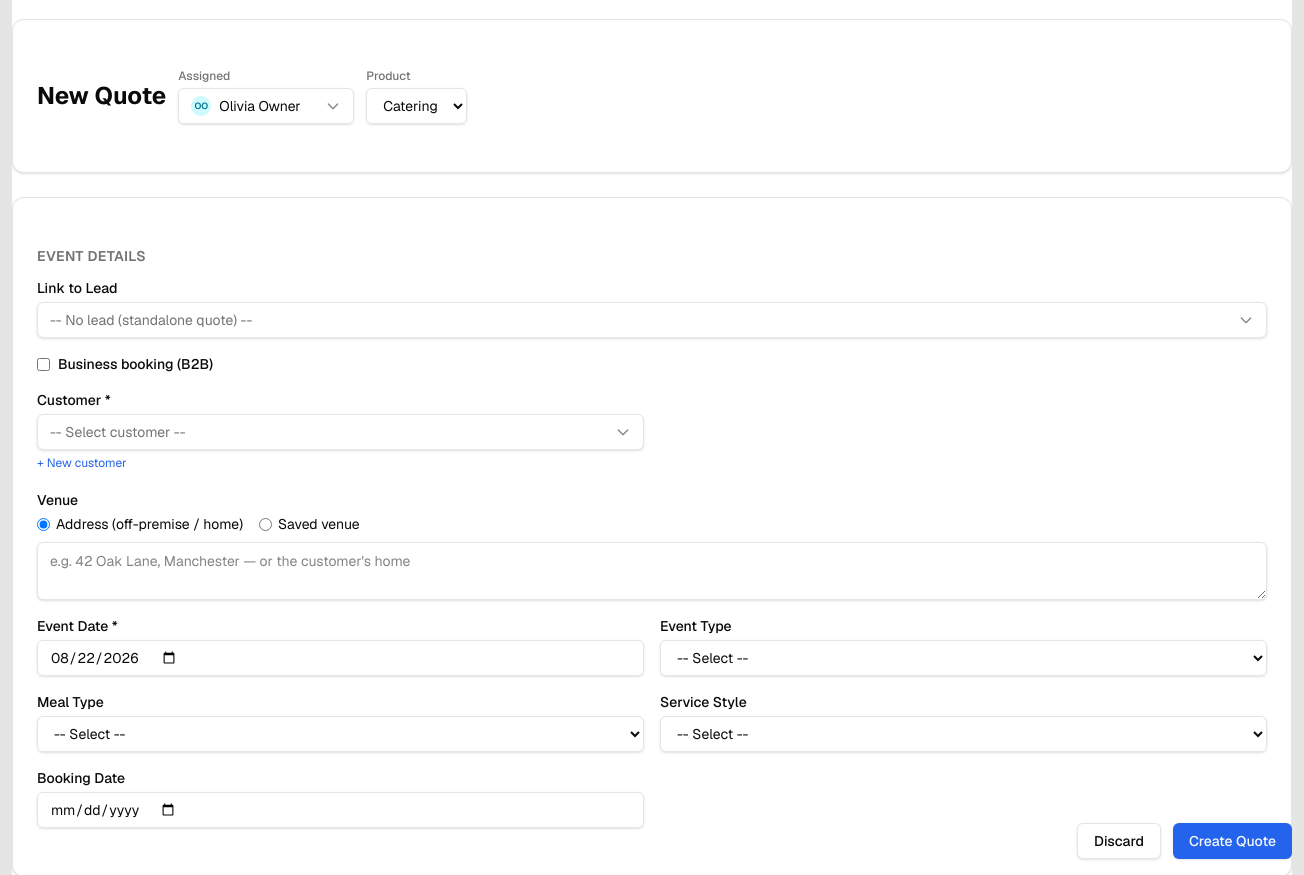
Quote create — linking to a lead › tells two leads with the same name apart by their date
Click the button with aria-label "Link to Lead" at (151, 320), box [37, 302, 1267, 338]
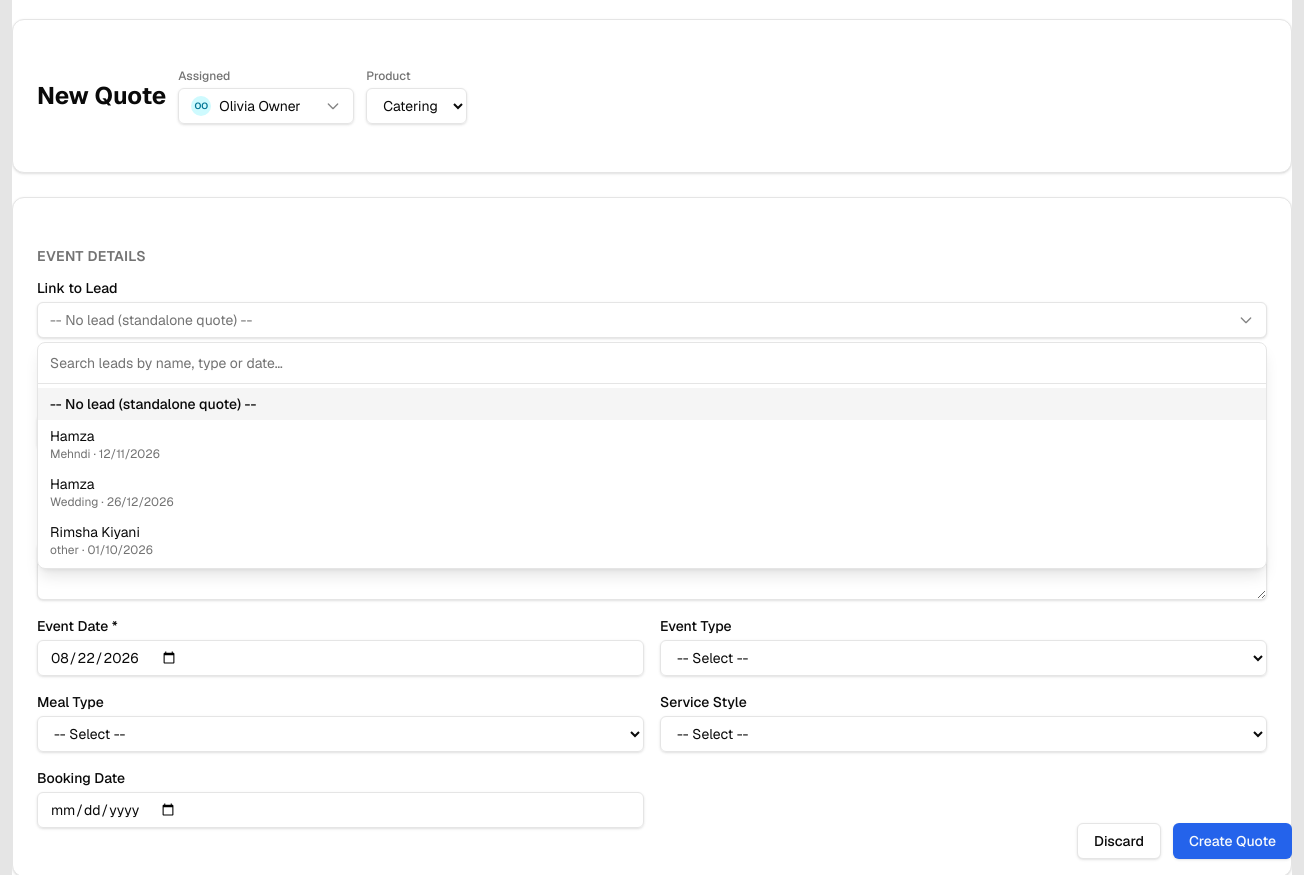
Type "26/12" into the field named "Search link to lead" at (652, 363), box [50, 353, 1254, 373]
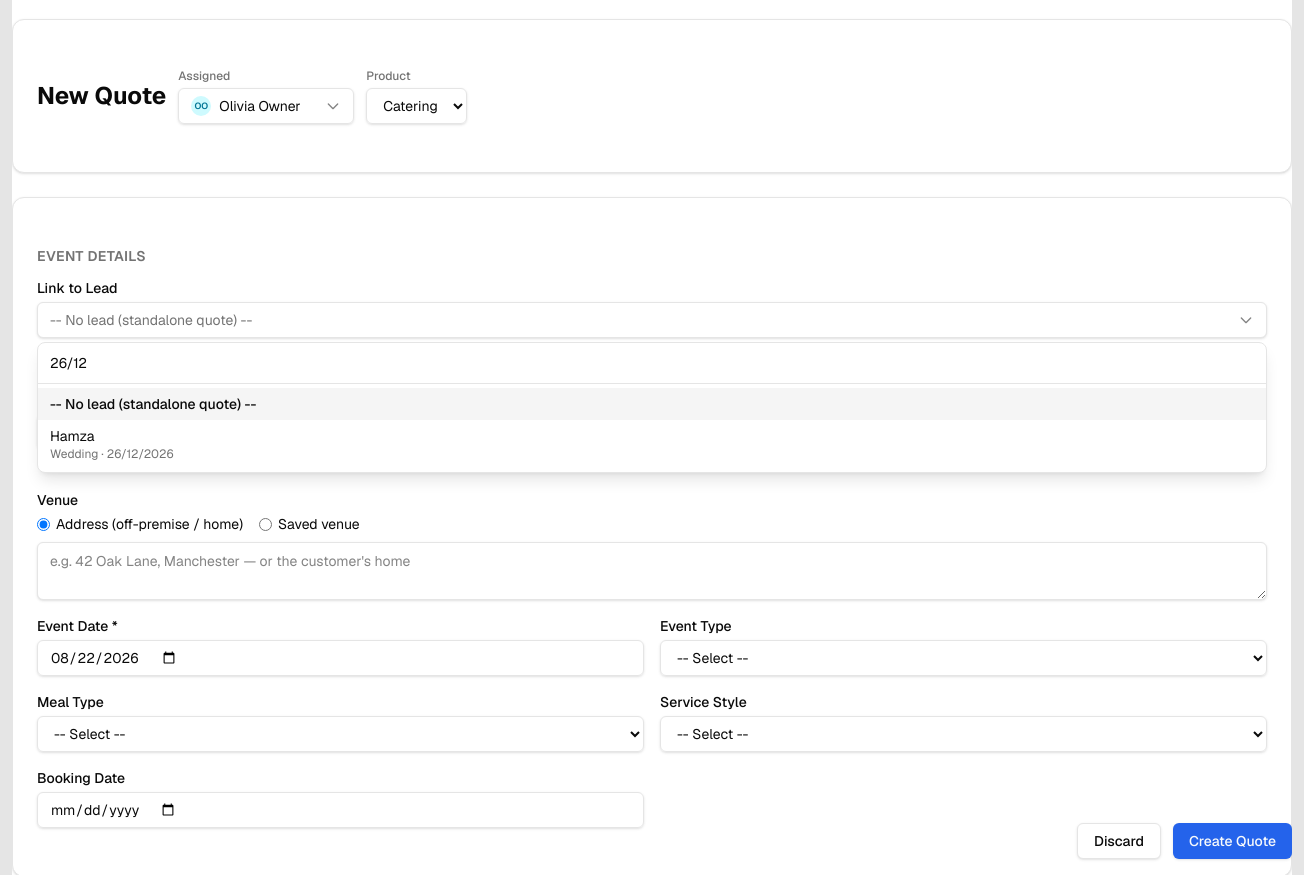
Click the text "Wedding · 26/12/2026" at (112, 454), box [50, 446, 174, 462]
(page scrolled)
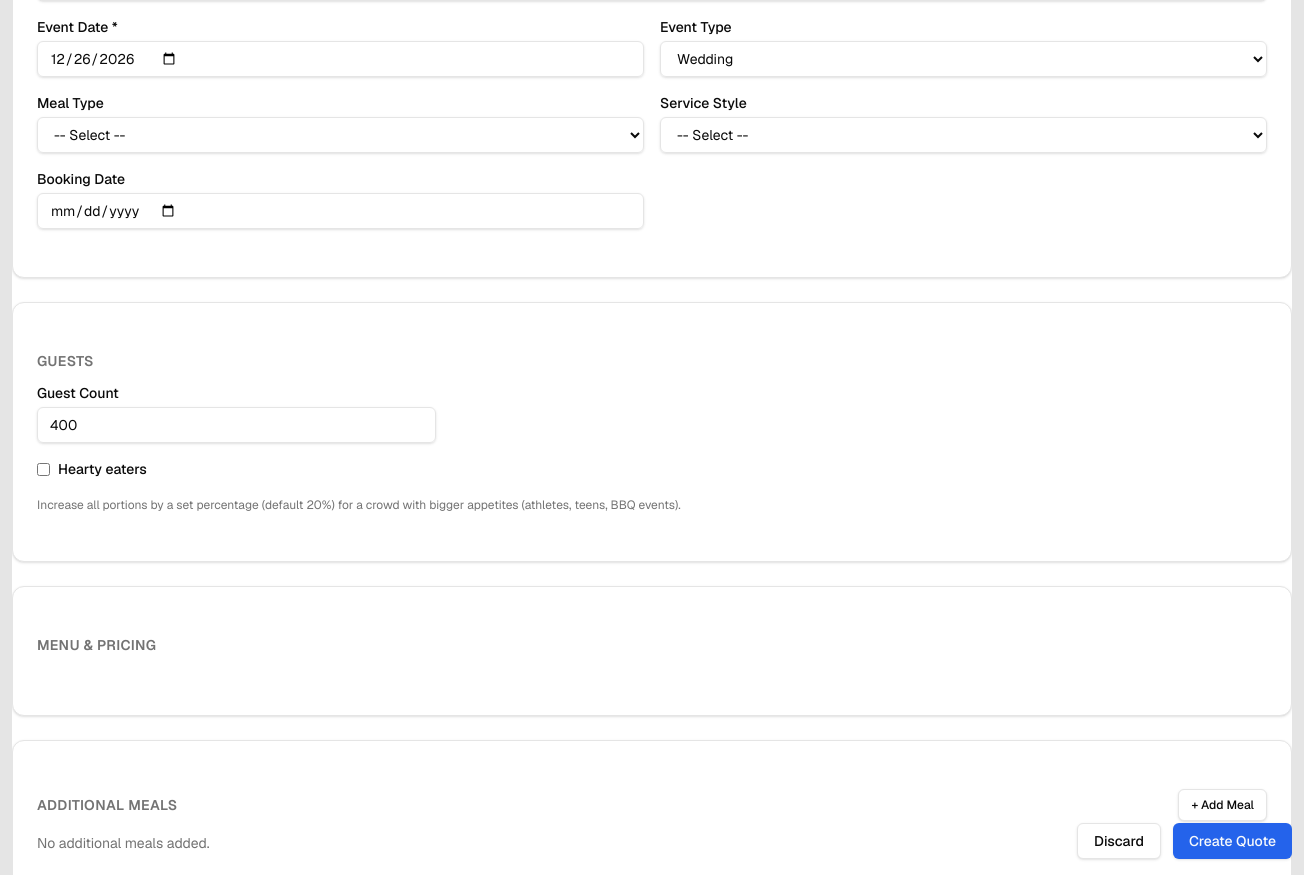
Expected: the field named "Guest Count" holds "400", [37, 407, 436, 443]
